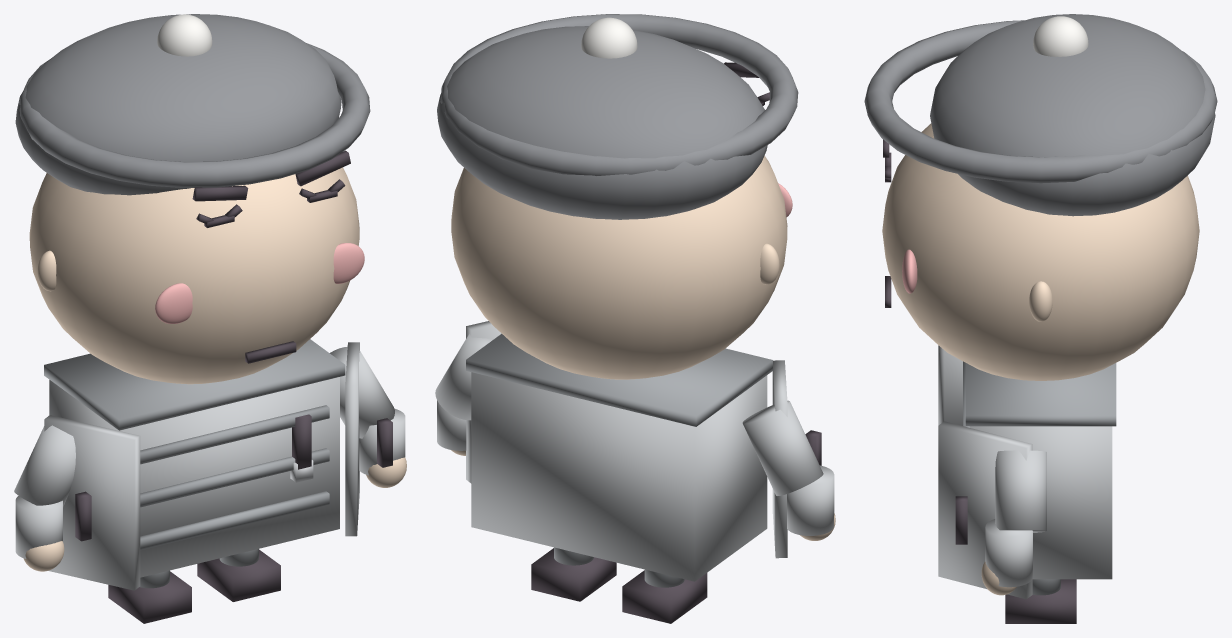
File: locker.glb
The picture shows the model from 3 angles, left to right: view 1: azimuth 30°, elevation 25°; view 2: azimuth 150°, elevation 25°; view 3: azimuth 270°, elevation 25°; orthographic projection.
Parts seen in each view (by area): view 1: Head, Beanie, LockerBody, BeanieBrim, Door_L, LockerTop, UpperArm_L, Shelf_0.28, Door_R, Foot_R, Shelf_0.52, Foot_L (+16 smaller); view 2: Head, LockerBody, Beanie, BeanieBrim, LockerTop, UpperArm_L, Foot_L, Foot_R, Forearm_L, UpperArm_R, BeaniePom, Door_L (+3 smaller); view 3: Head, Beanie, BeanieBrim, LockerBody, Door_R, LockerTop, UpperArm_R, Forearm_R, Foot_R, BeaniePom, Door_L, Ear_R (+3 smaller).
Boxes of the visible parts, x1=… form: Head: x1=29, y1=167, x2=359, y2=384; Beanie: x1=15, y1=14, x2=341, y2=195; LockerBody: x1=49, y1=377, x2=339, y2=577; BeanieBrim: x1=19, y1=43, x2=370, y2=187; Door_L: x1=44, y1=415, x2=140, y2=590; LockerTop: x1=44, y1=339, x2=345, y2=430; UpperArm_L: x1=14, y1=425, x2=75, y2=506; Shelf_0.28: x1=140, y1=491, x2=329, y2=550; Door_R: x1=345, y1=342, x2=359, y2=536; Foot_R: x1=197, y1=549, x2=280, y2=601; Shelf_0.52: x1=140, y1=405, x2=329, y2=464; Foot_L: x1=108, y1=571, x2=191, y2=623; Head: x1=451, y1=155, x2=787, y2=379; LockerBody: x1=471, y1=372, x2=767, y2=581; Beanie: x1=437, y1=26, x2=767, y2=219; BeanieBrim: x1=440, y1=14, x2=798, y2=175; LockerTop: x1=466, y1=333, x2=772, y2=426; UpperArm_L: x1=742, y1=400, x2=823, y2=495; Foot_L: x1=622, y1=570, x2=707, y2=623; Foot_R: x1=531, y1=548, x2=616, y2=601; Forearm_L: x1=787, y1=465, x2=834, y2=535; UpperArm_R: x1=435, y1=334, x2=493, y2=420; BeaniePom: x1=581, y1=17, x2=637, y2=58; Door_L: x1=772, y1=360, x2=787, y2=558; Head: x1=882, y1=123, x2=1199, y2=380; Beanie: x1=930, y1=14, x2=1215, y2=216; BeanieBrim: x1=864, y1=20, x2=1217, y2=183; LockerBody: x1=969, y1=426, x2=1112, y2=579; Door_R: x1=938, y1=421, x2=1032, y2=599; LockerTop: x1=965, y1=363, x2=1116, y2=426; UpperArm_R: x1=995, y1=450, x2=1046, y2=532; Forearm_R: x1=985, y1=519, x2=1032, y2=587; Foot_R: x1=1005, y1=579, x2=1076, y2=623; BeaniePom: x1=1033, y1=16, x2=1088, y2=56; Door_L: x1=938, y1=345, x2=962, y2=425; Ear_R: x1=1029, y1=281, x2=1052, y2=321.
Bounding box in the file's own units: 1.12 × 1.59 × 0.89.
